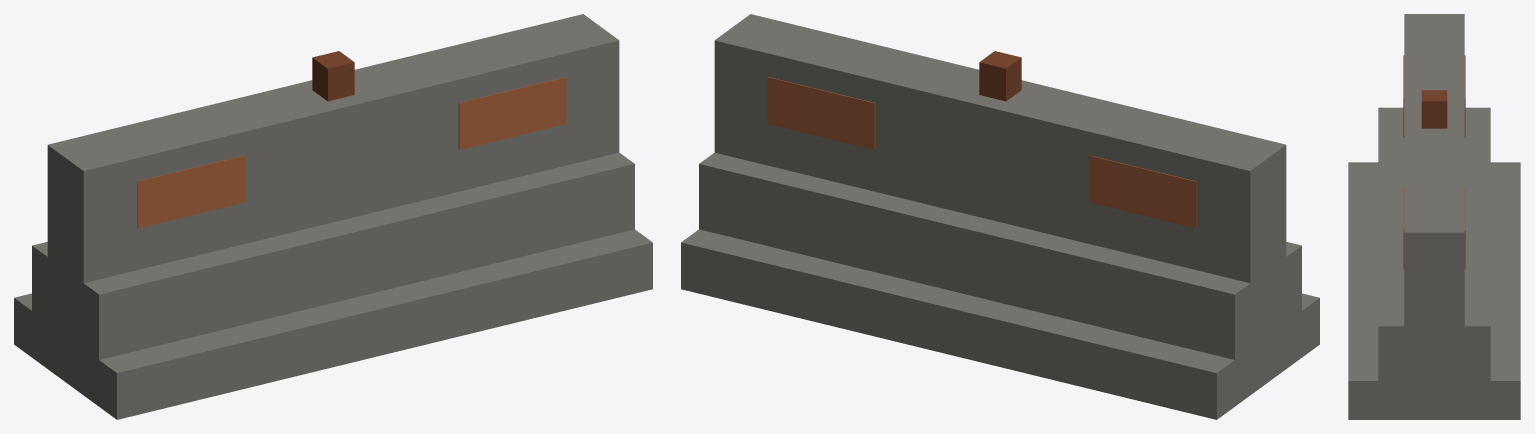
The model's file is env_barrier_jersey.fbx.
3 renders of one model, left to right at view 1: azimuth 30°, elevation 25°; view 2: azimuth 150°, elevation 25°; view 3: azimuth 270°, elevation 25°, orthographic. The views are drawn at different scales.
Parts seen in each view (by area): view 1: env_barrier_jersey; view 2: env_barrier_jersey; view 3: env_barrier_jersey.
Boxes of the visible parts, x1,y1,x2,y2 form: env_barrier_jersey: (14,14,652,419); env_barrier_jersey: (681,14,1319,419); env_barrier_jersey: (1348,14,1520,419).
Bounding box in the file's own units: 600 × 275 × 200.
